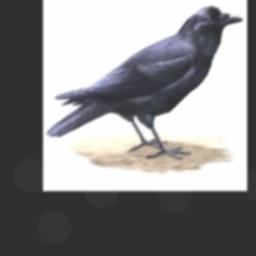Crow: (45, 5, 243, 162)
